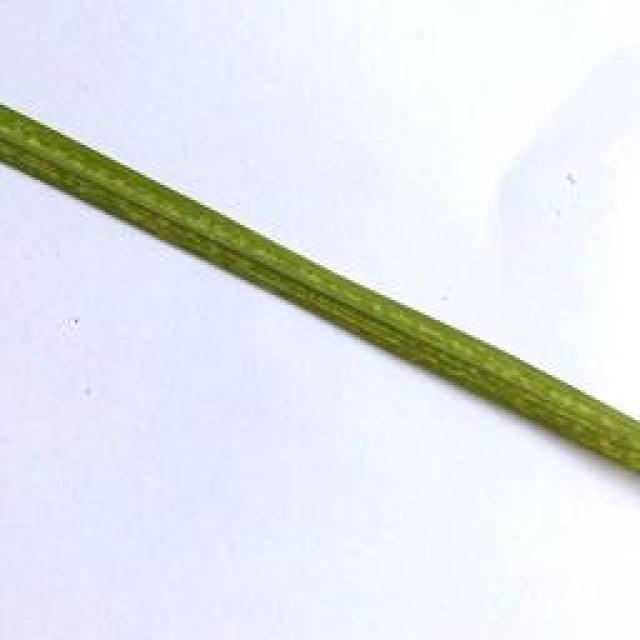Healthy-Plant: (0, 102, 640, 472)
